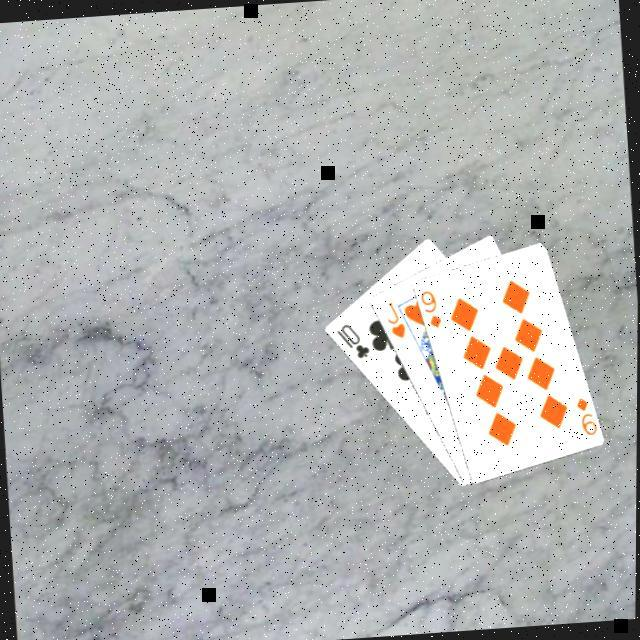10C: (334, 316, 374, 361)
9D: (418, 283, 447, 330), (574, 391, 601, 436)
JH: (384, 295, 411, 340)
